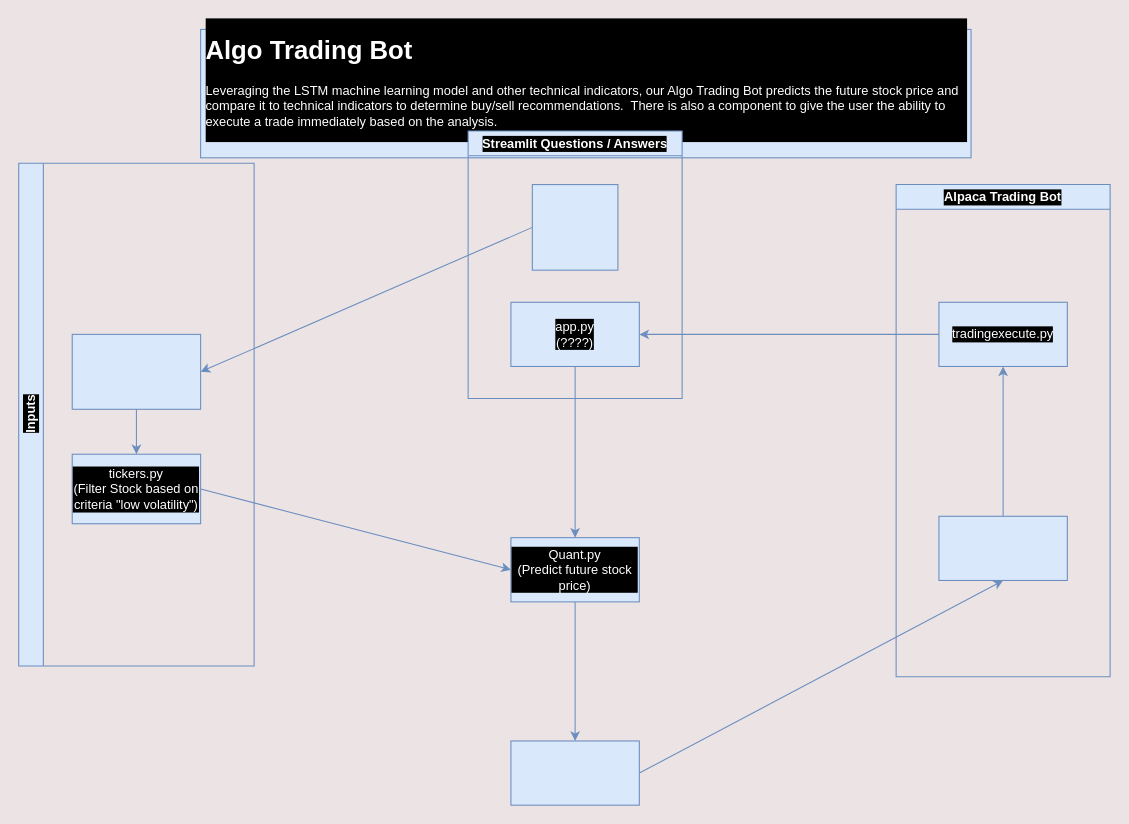
The diagram is 1129 pixels wide and 824 high, and some of its shapes have lost their labels. The centre of each missing label's shape, as x and y in pixels:
"alpacatrades.py" belongs at (x=1002, y=547).
"data.py (Data pull and process from YFinanace)" belongs at (x=136, y=371).
"Main.py" belongs at (x=574, y=227).
"MLearning.py (Run ML to determine Buy/Sell signal)" belongs at (x=574, y=772).
